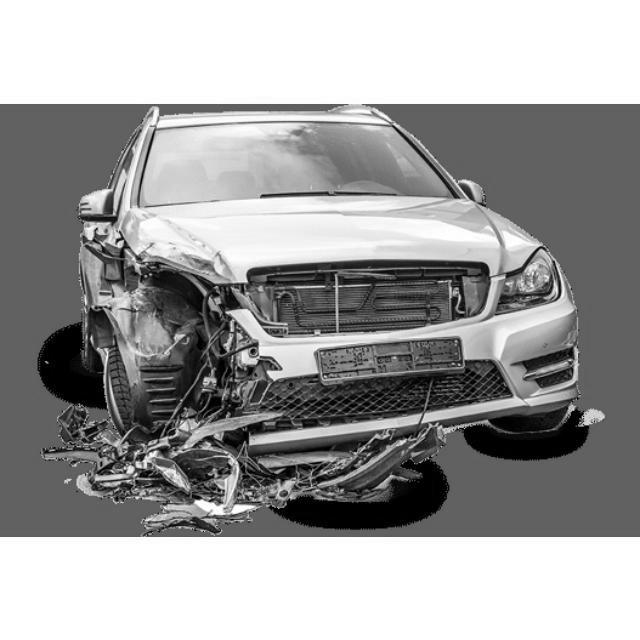Headlight-damage: (142, 263, 244, 342)
bonnet-dent: (121, 206, 263, 287)
front-bumper-dent: (110, 317, 482, 508)
